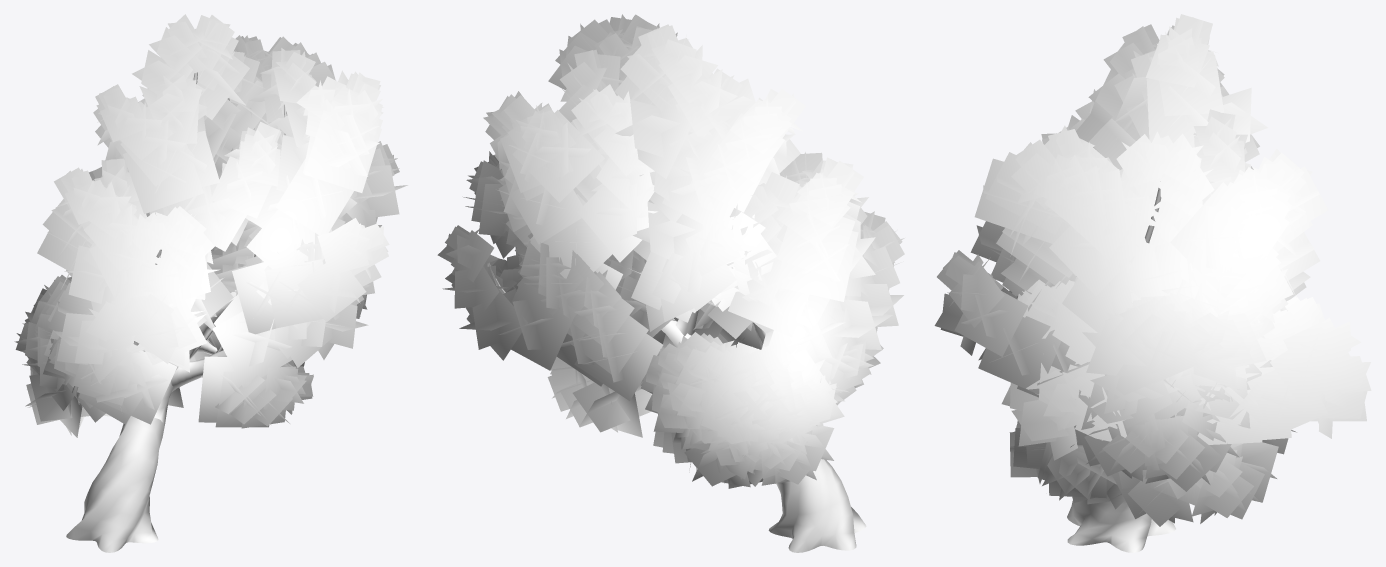
File: arbre_1.glb
The picture shows the model from 3 angles, left to right: view 1: azimuth 30°, elevation 25°; view 2: azimuth 150°, elevation 25°; view 3: azimuth 270°, elevation 25°; orthographic projection. The views are drawn at different scales.
Visible parts, largest first — view 1: TwistedTree_1, TwistedTree_1-col; view 2: TwistedTree_1, TwistedTree_1-col; view 3: TwistedTree_1, TwistedTree_1-col.
Part boxes in pixels (x1,y1,x2,y2): TwistedTree_1: (14,14,407,437); TwistedTree_1-col: (66,416,164,552); TwistedTree_1: (437,14,904,488); TwistedTree_1-col: (768,459,866,552); TwistedTree_1: (934,14,1371,526); TwistedTree_1-col: (1067,500,1175,552).
Size of the model in its own units: 13.52 by 16.73 by 11.55.
Materials: 2 (1 with a texture image).
